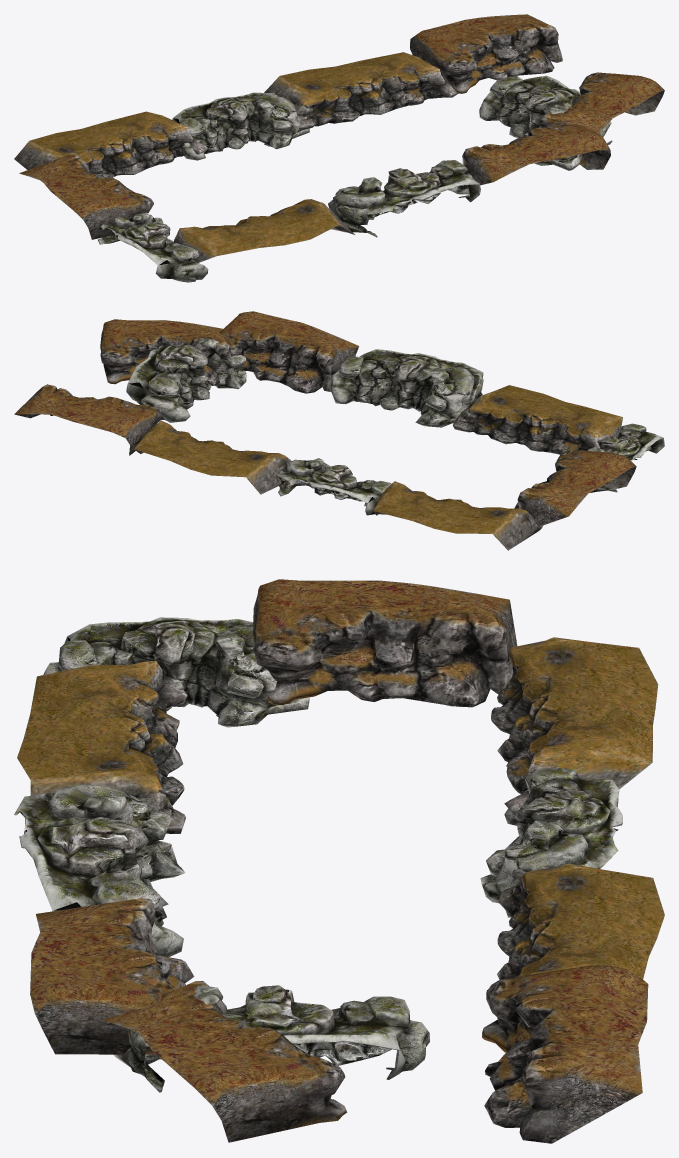
The model's file is muros.fbx.
3 views of the same model, one above another, from view 1: azimuth 30°, elevation 25°; view 2: azimuth 150°, elevation 25°; view 3: azimuth 270°, elevation 25° (orthographic). The views are drawn at different scales.
Visible parts, largest first — view 1: RHEFGenericCliffB2, RHEF_GenericCliffA2, RHEFGenericCliffB, MRL_Generic Cliff 5_Collison, MRL_Generic Cliff 5_Collison2, RHEFGenericCliffB1, RHEF_GenericCliffA1, RHEF_GenericCliffA, MRL_Generic Cliff 5_Collison3, RHEF_GenericCliffA3, MRL_Generic Cliff 5_Collison1; view 2: MRL_Generic Cliff 5_Collison2, RHEFGenericCliffB1, RHEF_GenericCliffA1, MRL_Generic Cliff 5_Collison3, RHEFGenericCliffB, RHEF_GenericCliffA3, RHEF_GenericCliffA, RHEFGenericCliffB2, RHEF_GenericCliffA2, MRL_Generic Cliff 5_Collison, MRL_Generic Cliff 5_Collison1, MRL_Generic Cliff 5_LOD 0; view 3: RHEF_GenericCliffA, RHEF_GenericCliffA2, RHEFGenericCliffB, RHEFGenericCliffB1, RHEF_GenericCliffA3, RHEF_GenericCliffA1, MRL_Generic Cliff 5_Collison2, RHEFGenericCliffB2, MRL_Generic Cliff 5_Collison1, MRL_Generic Cliff 5_Collison3, MRL_Generic Cliff 5_Collison.
Part boxes in pixels (x1,y1,x2,y2): RHEFGenericCliffB2: [264, 52, 458, 130]; RHEF_GenericCliffA2: [410, 14, 562, 93]; RHEFGenericCliffB: [14, 111, 207, 181]; MRL_Generic Cliff 5_Collison: [172, 92, 309, 160]; MRL_Generic Cliff 5_Collison2: [328, 160, 480, 237]; RHEFGenericCliffB1: [169, 199, 354, 262]; RHEF_GenericCliffA1: [459, 124, 610, 189]; RHEF_GenericCliffA: [19, 153, 153, 239]; MRL_Generic Cliff 5_Collison3: [479, 75, 612, 170]; RHEF_GenericCliffA3: [539, 72, 664, 133]; MRL_Generic Cliff 5_Collison1: [98, 212, 208, 282]; MRL_Generic Cliff 5_Collison2: [330, 349, 483, 427]; RHEFGenericCliffB1: [452, 385, 622, 454]; RHEF_GenericCliffA1: [219, 311, 359, 393]; MRL_Generic Cliff 5_Collison3: [126, 338, 246, 422]; RHEFGenericCliffB: [373, 481, 543, 550]; RHEF_GenericCliffA3: [100, 319, 233, 385]; RHEF_GenericCliffA: [514, 449, 636, 527]; RHEFGenericCliffB2: [134, 420, 291, 494]; RHEF_GenericCliffA2: [14, 384, 162, 455]; MRL_Generic Cliff 5_Collison: [277, 458, 391, 515]; MRL_Generic Cliff 5_Collison1: [588, 423, 664, 493]; MRL_Generic Cliff 5_LOD 0: [278, 467, 378, 514]; RHEF_GenericCliffA: [252, 579, 517, 707]; RHEF_GenericCliffA2: [482, 965, 648, 1143]; RHEFGenericCliffB: [491, 637, 658, 815]; RHEFGenericCliffB1: [17, 660, 187, 833]; RHEF_GenericCliffA3: [102, 981, 347, 1142]; RHEF_GenericCliffA1: [30, 898, 194, 1054]; MRL_Generic Cliff 5_Collison2: [14, 784, 184, 957]; RHEFGenericCliffB2: [497, 863, 664, 979]; MRL_Generic Cliff 5_Collison1: [43, 617, 309, 727]; MRL_Generic Cliff 5_Collison3: [114, 985, 429, 1092]; MRL_Generic Cliff 5_Collison: [480, 768, 622, 917].
Size of what is drawn, in the model's own units: 384 by 32.32 by 204.
3 materials, 3 textured.
